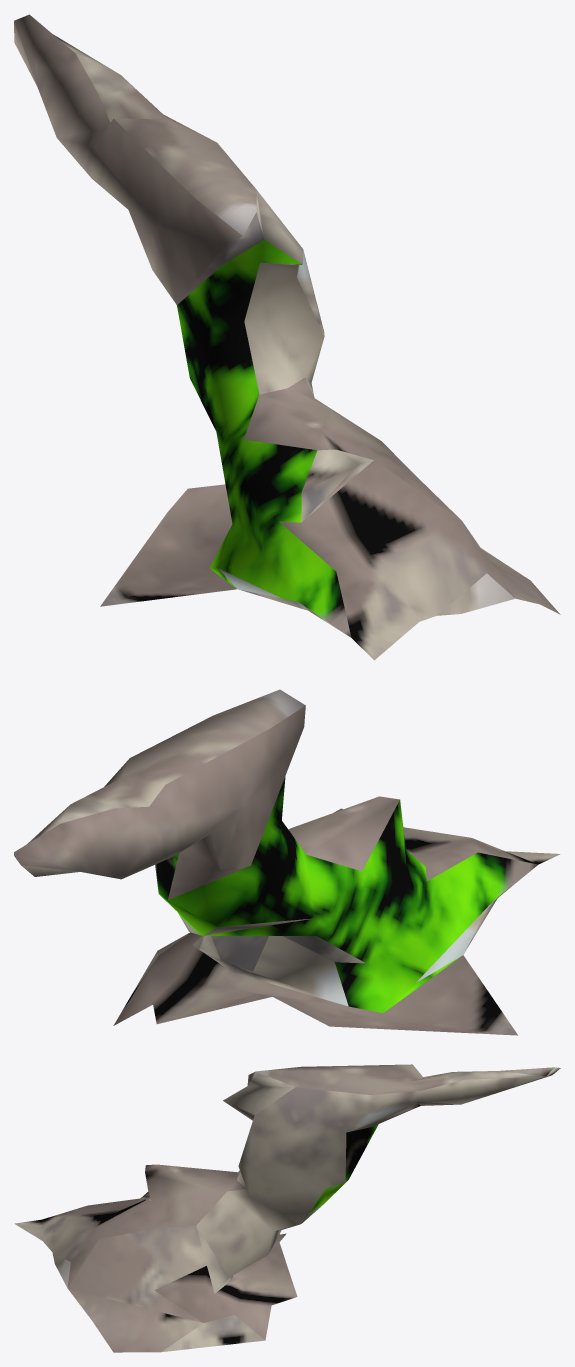
The model's file is Spiky-2.fbx.
3 renders of one model, top to bottom at view 1: azimuth 30°, elevation 25°; view 2: azimuth 150°, elevation 25°; view 3: azimuth 270°, elevation 25°, orthographic. The views are drawn at different scales.
Parts seen in each view (by area): view 1: Spiky-2; view 2: Spiky-2; view 3: Spiky-2.
Boxes of the visible parts, x1,y1,x2,y2 form: Spiky-2: (14, 14, 560, 660); Spiky-2: (14, 689, 560, 1035); Spiky-2: (14, 1064, 560, 1352).
Size of the model in its own units: 4.6 by 4.25 by 9.03.
